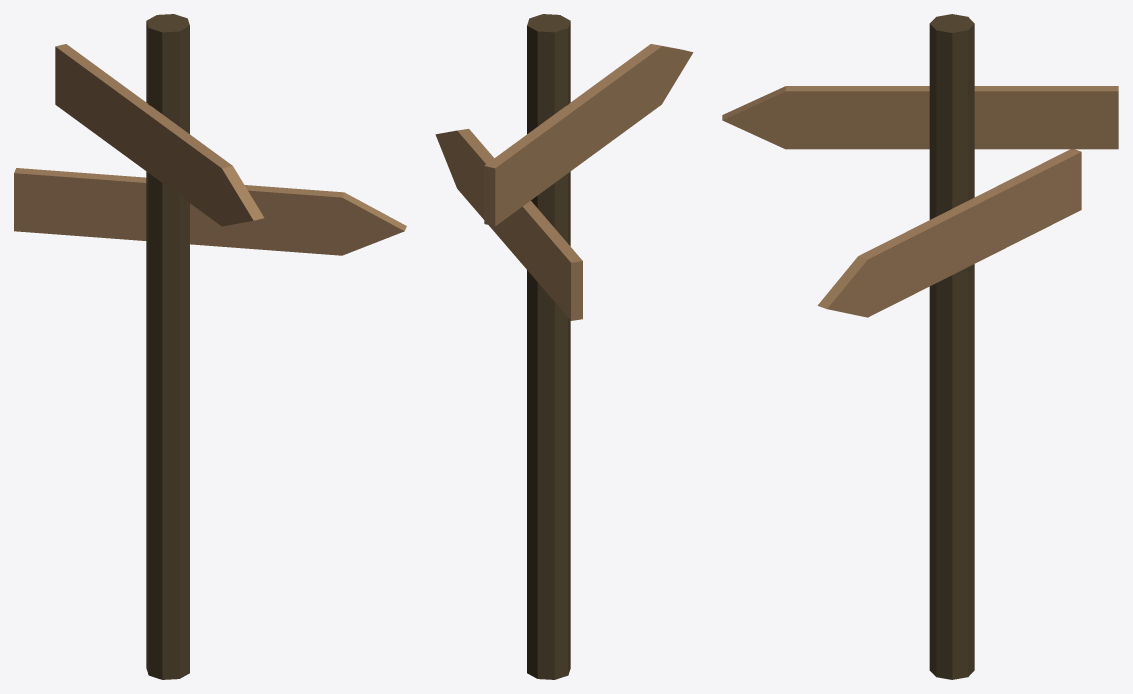
The model's file is SignV2.fbx.
3 renders of one model, left to right at view 1: azimuth 30°, elevation 25°; view 2: azimuth 150°, elevation 25°; view 3: azimuth 270°, elevation 25°, orthographic.
Visible parts, largest first — view 1: Cylinder, Cube.001, Cube; view 2: Cylinder, Cube, Cube.001; view 3: Cylinder, Cube, Cube.001.
Boxes of the visible parts, x1=… form: Cylinder: x1=146, y1=14, x2=189, y2=679; Cube.001: x1=14, y1=168, x2=406, y2=255; Cube: x1=55, y1=44, x2=264, y2=226; Cylinder: x1=527, y1=14, x2=570, y2=679; Cube: x1=484, y1=44, x2=693, y2=226; Cube.001: x1=435, y1=128, x2=582, y2=320; Cylinder: x1=929, y1=14, x2=974, y2=679; Cube: x1=722, y1=86, x2=1118, y2=149; Cube.001: x1=817, y1=149, x2=1081, y2=317.
Size of the model in its own units: 218 by 498 by 277.
